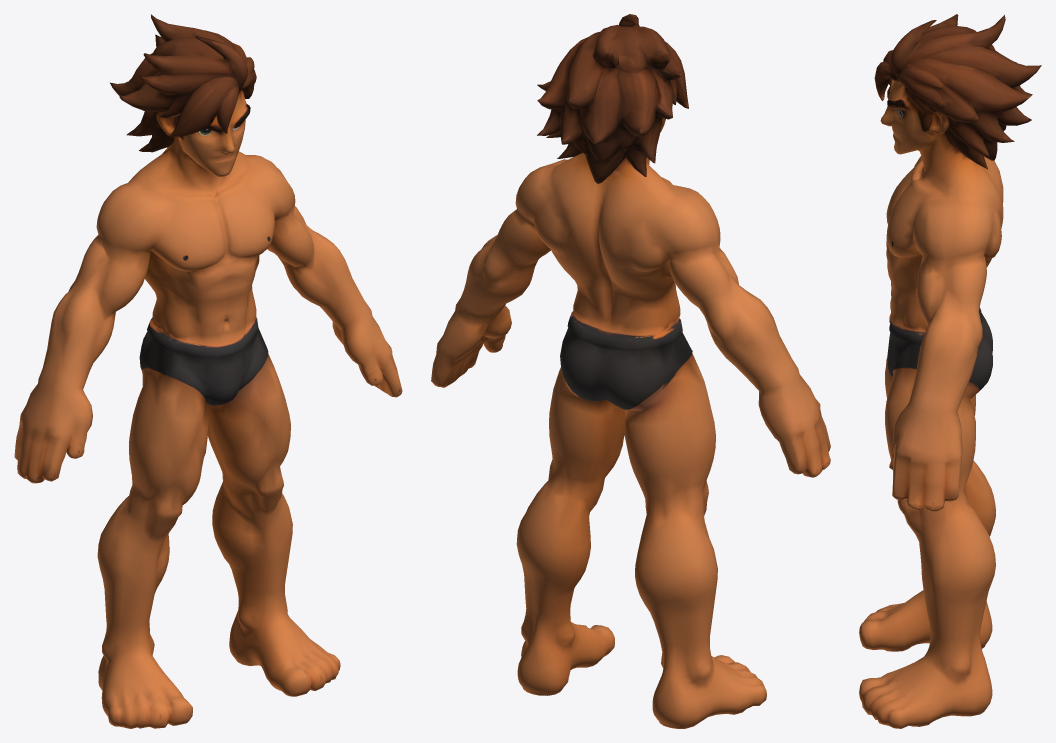
Rendered from model_glb-model.glb.
The picture shows the model from 3 angles, left to right: view 1: azimuth 30°, elevation 25°; view 2: azimuth 150°, elevation 25°; view 3: azimuth 270°, elevation 25°; orthographic projection. The views are drawn at different scales.
Parts seen in each view (by area): view 1: material; view 2: material; view 3: material.
Part boxes in pixels (left/top/right/bottom): material: left=14, top=14, right=402, bottom=728; material: left=431, top=14, right=830, bottom=728; material: left=859, top=14, right=1041, bottom=728.
Size of the model in its own units: 1.13 by 1.9 by 0.4823.
1 material, 1 textured.
